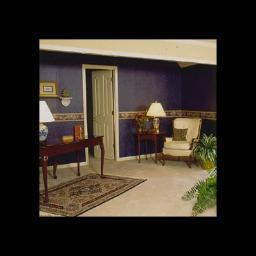Matera: (194, 136, 213, 171)
Puerta: (92, 69, 116, 160)
